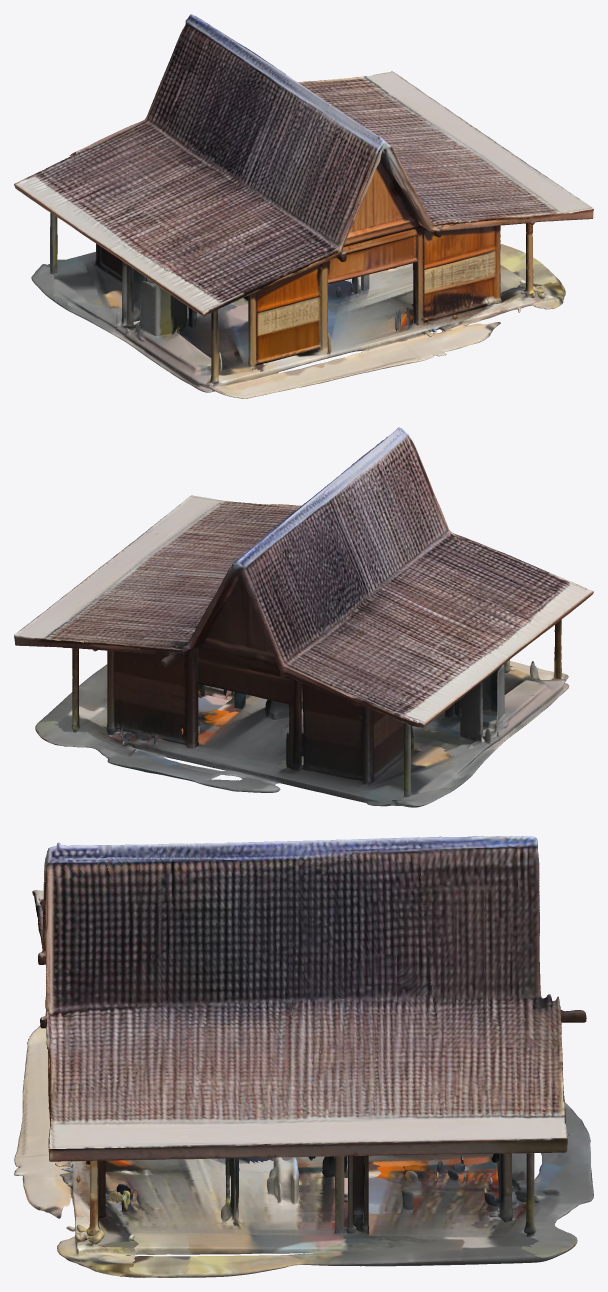
Rendered from Rumah Adat Osing.fbx.
3 renders of one model, top to bottom at view 1: azimuth 30°, elevation 25°; view 2: azimuth 150°, elevation 25°; view 3: azimuth 270°, elevation 25°, orthographic. The views are drawn at different scales.
Visible parts, largest first — view 1: node_3299b9b9_fa87_4bbf_b050_beea2fce8e98_mesh0; view 2: node_3299b9b9_fa87_4bbf_b050_beea2fce8e98_mesh0; view 3: node_3299b9b9_fa87_4bbf_b050_beea2fce8e98_mesh0.
Part boxes in pixels (x1,y1,x2,y2): node_3299b9b9_fa87_4bbf_b050_beea2fce8e98_mesh0: (14,14,593,398); node_3299b9b9_fa87_4bbf_b050_beea2fce8e98_mesh0: (14,427,593,807); node_3299b9b9_fa87_4bbf_b050_beea2fce8e98_mesh0: (14,836,593,1277).
Size of the model in its own units: 100 by 51.71 by 90.56.
1 material, 1 textured.
